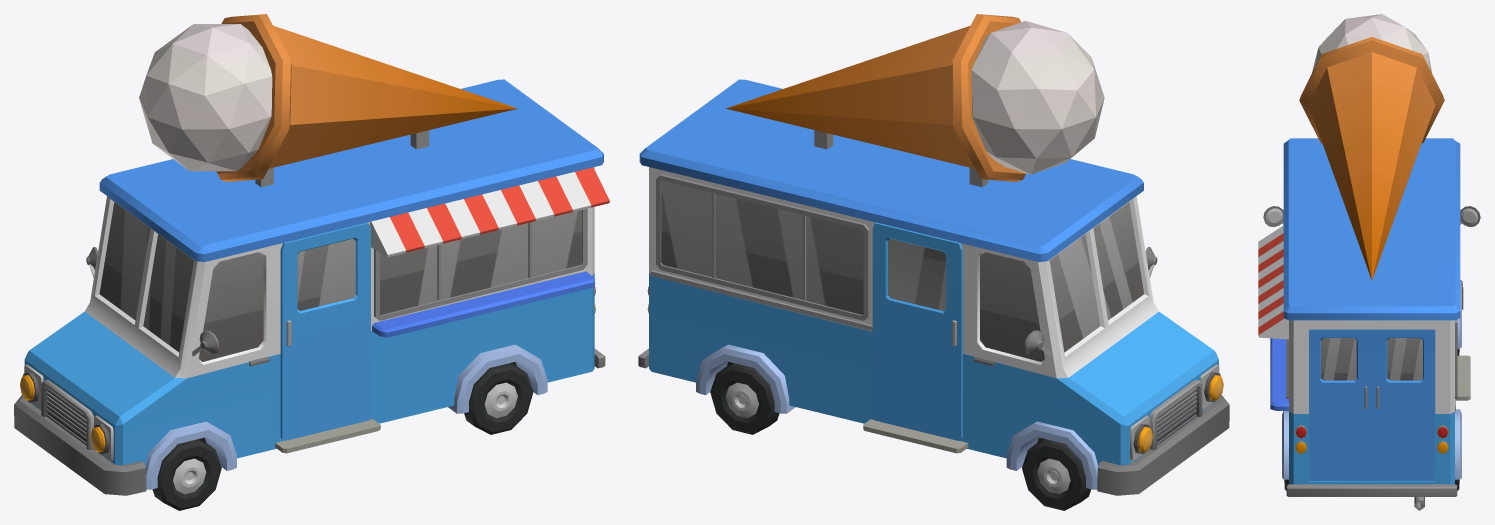
Rendered from IceTruck_1_A.fbx.
The picture shows the model from 3 angles, left to right: view 1: azimuth 30°, elevation 25°; view 2: azimuth 150°, elevation 25°; view 3: azimuth 270°, elevation 25°; orthographic projection. The views are drawn at different scales.
Parts seen in each view (by area): view 1: IceTruck_1_A, RL, FL; view 2: IceTruck_1_A, RR, FR; view 3: IceTruck_1_A.
Part boxes in pixels (x1,y1,x2,y2): IceTruck_1_A: (14,14,609,495); RL: (464,363,533,434); FL: (152,439,221,510); IceTruck_1_A: (638,14,1229,495); RR: (710,363,779,434); FR: (1022,439,1090,510); IceTruck_1_A: (1258,14,1480,510).
Bounding box in the file's own units: 4.16 × 3.38 × 1.84.
